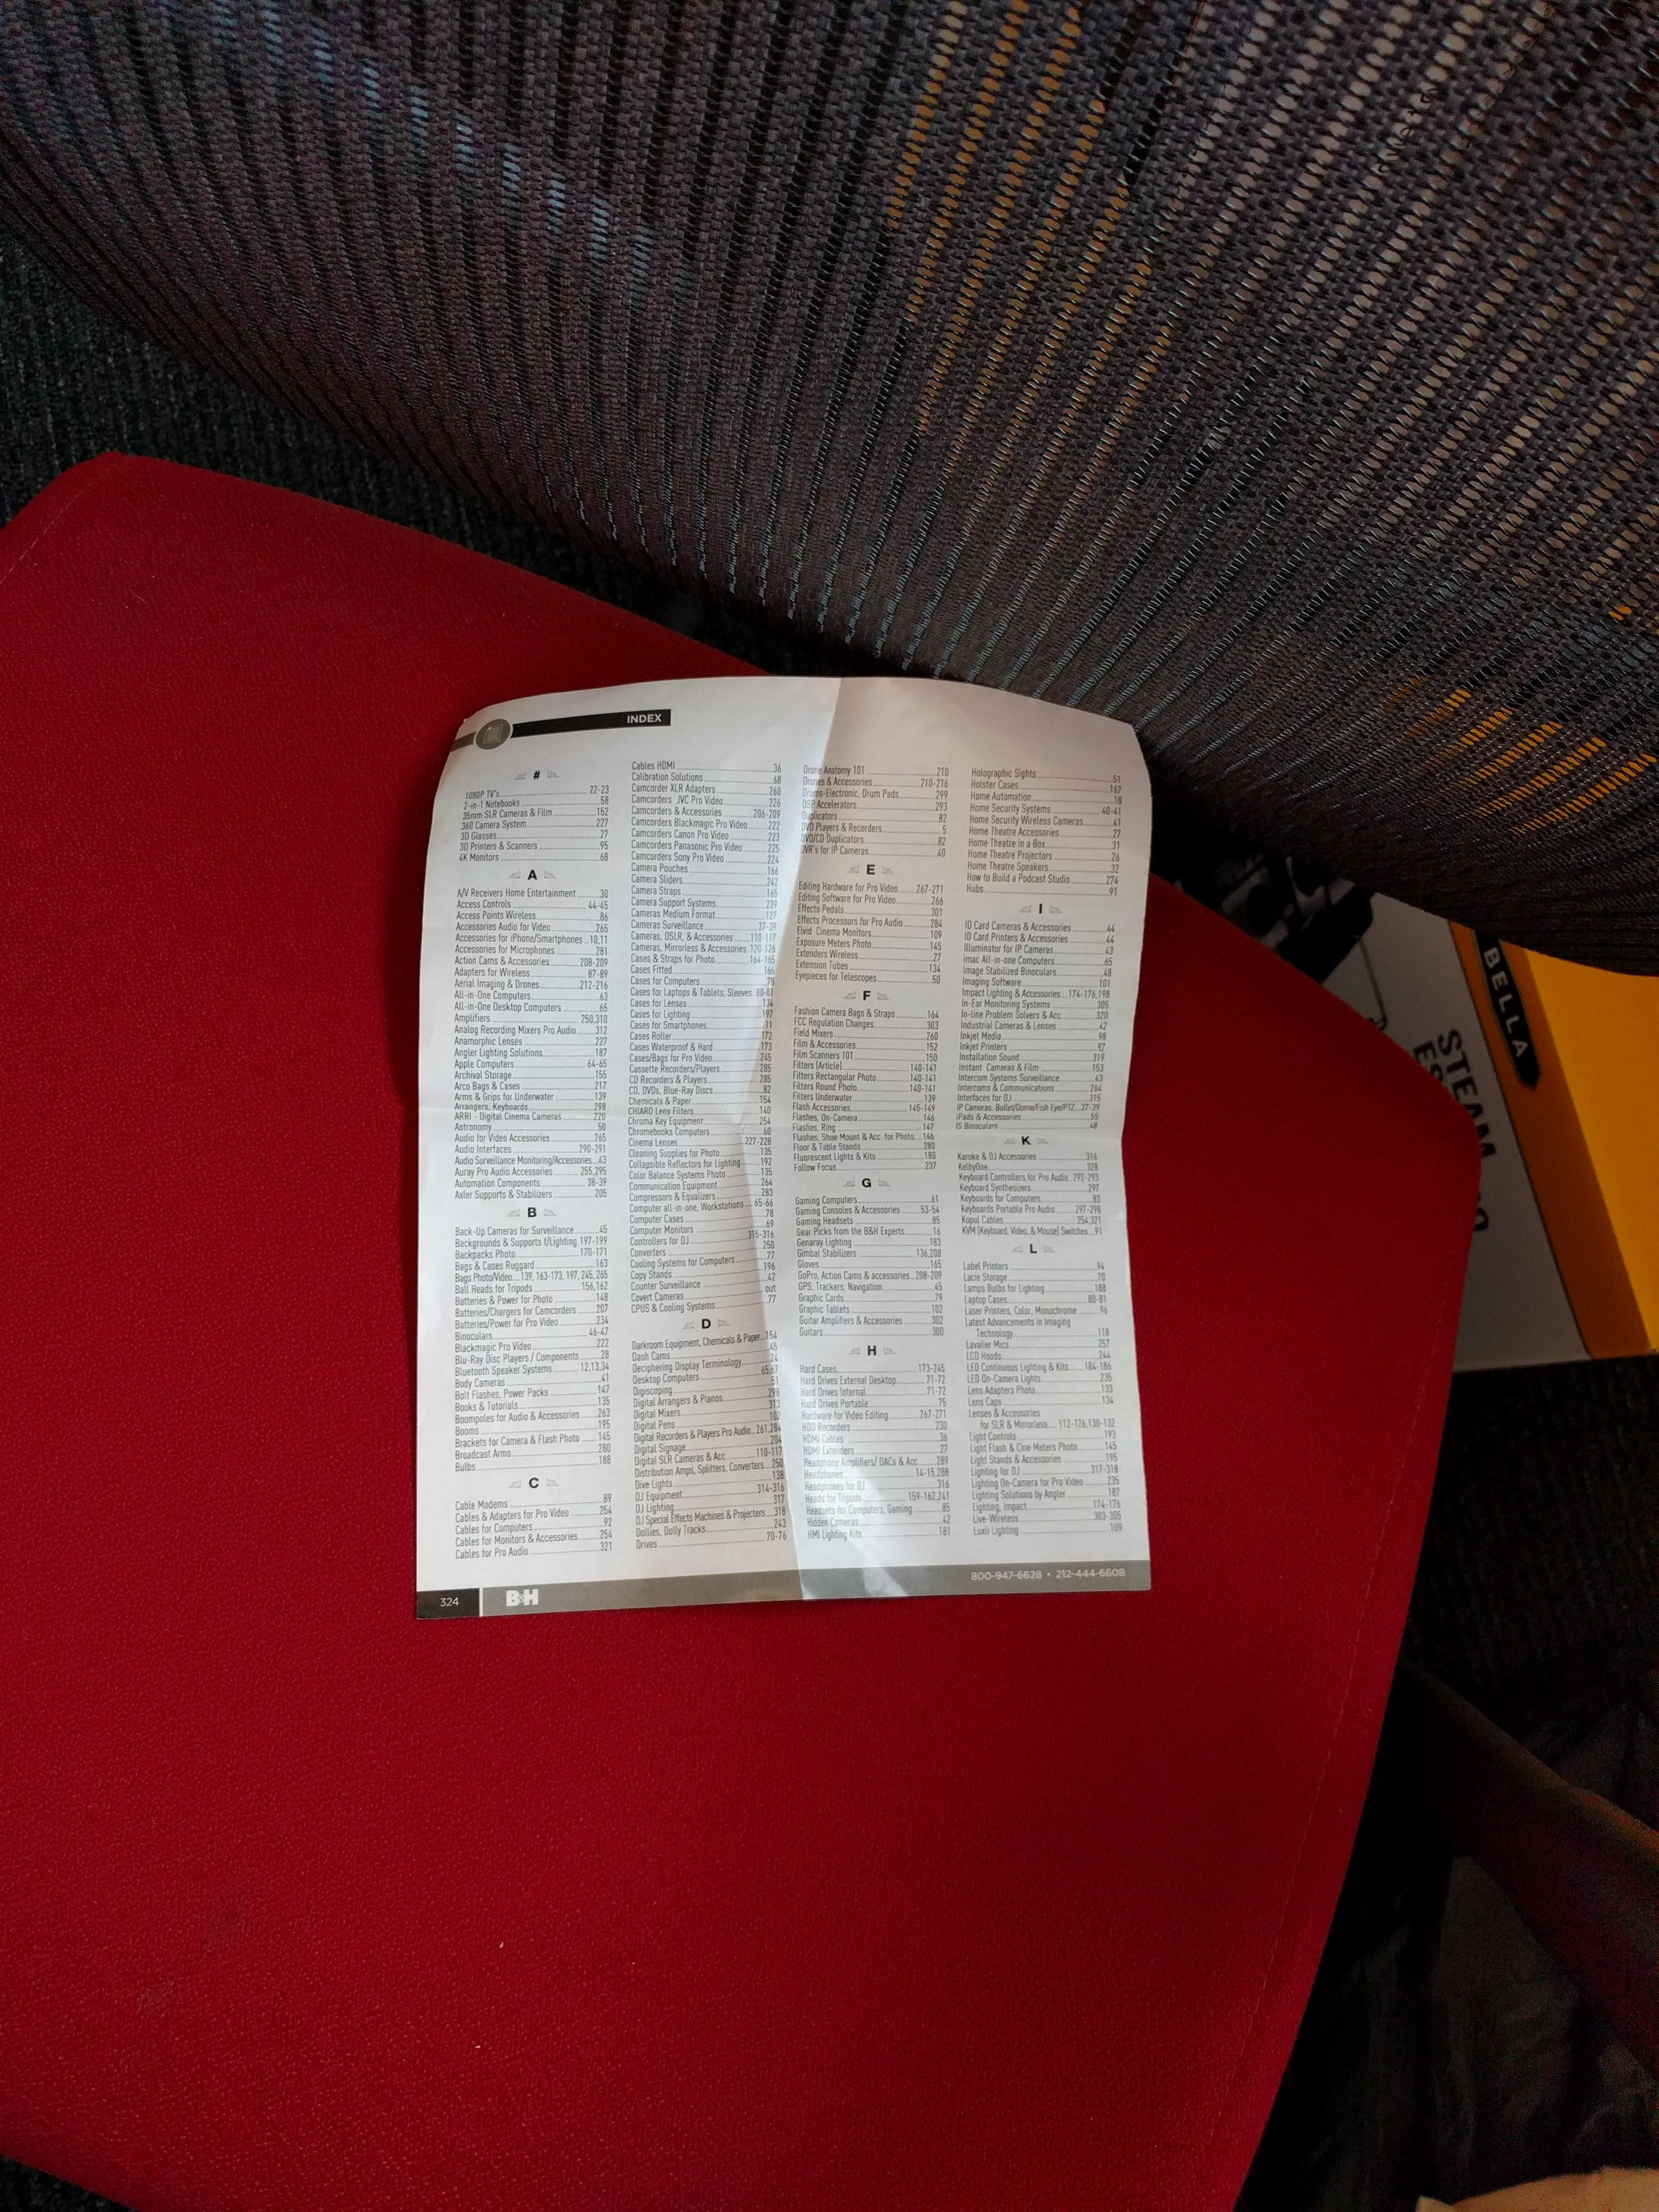paper: (268, 549, 1527, 1994)
